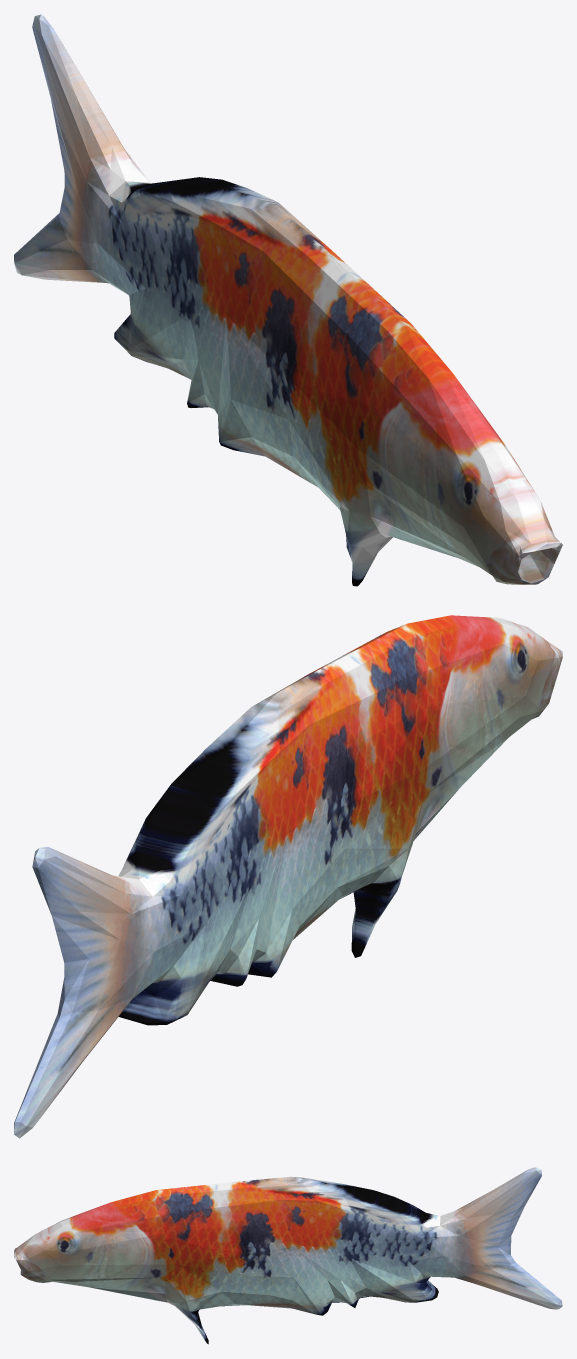
The model's file is koi_fish_.fbx.
3 renders of one model, top to bottom at view 1: azimuth 30°, elevation 25°; view 2: azimuth 150°, elevation 25°; view 3: azimuth 270°, elevation 25°, orthographic. The views are drawn at different scales.
Visible parts, largest first — view 1: koi_fish; view 2: koi_fish; view 3: koi_fish.
Part boxes in pixels (x1=…): koi_fish: x1=14, y1=14, x2=562, y2=586; koi_fish: x1=14, y1=615, x2=562, y2=1138; koi_fish: x1=14, y1=1167, x2=562, y2=1344.
Bounding box in the file's own units: 2.9 × 43.13 × 15.34.
1 material, 1 textured.
